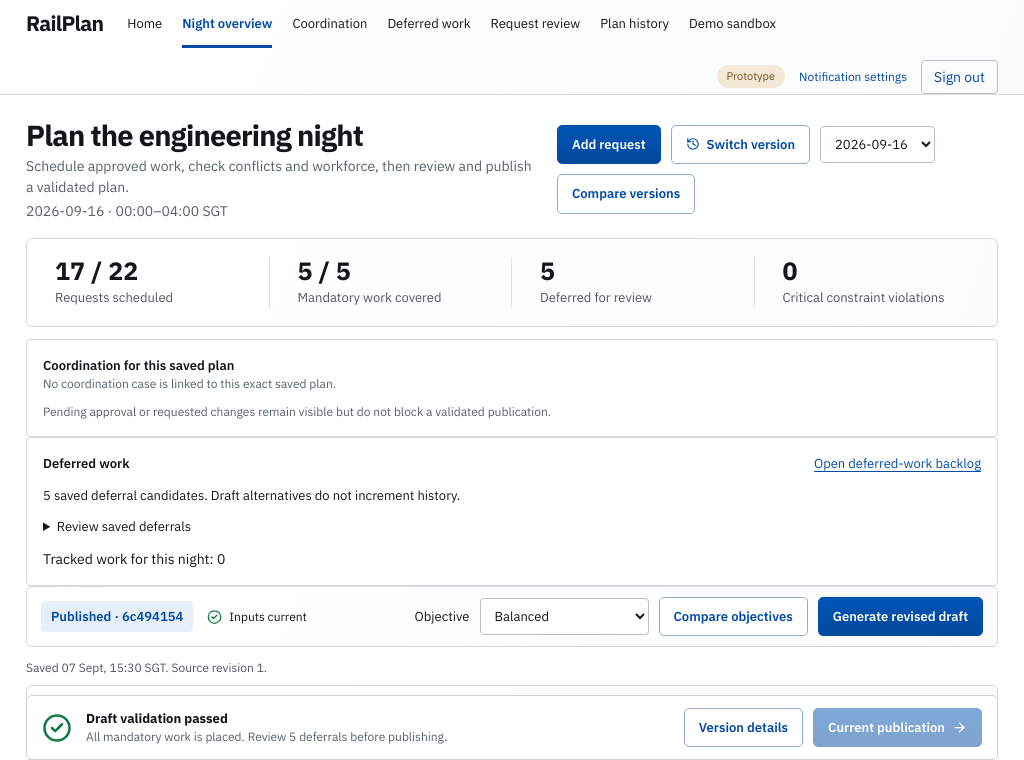
Test: renders published versions read-only and records review notes separately
Expected: the button "Current publication" is disabled, [813, 708, 982, 747]
Step 1. Click the button "Version details" → (743, 727), box [684, 708, 803, 747]
(page scrolled)
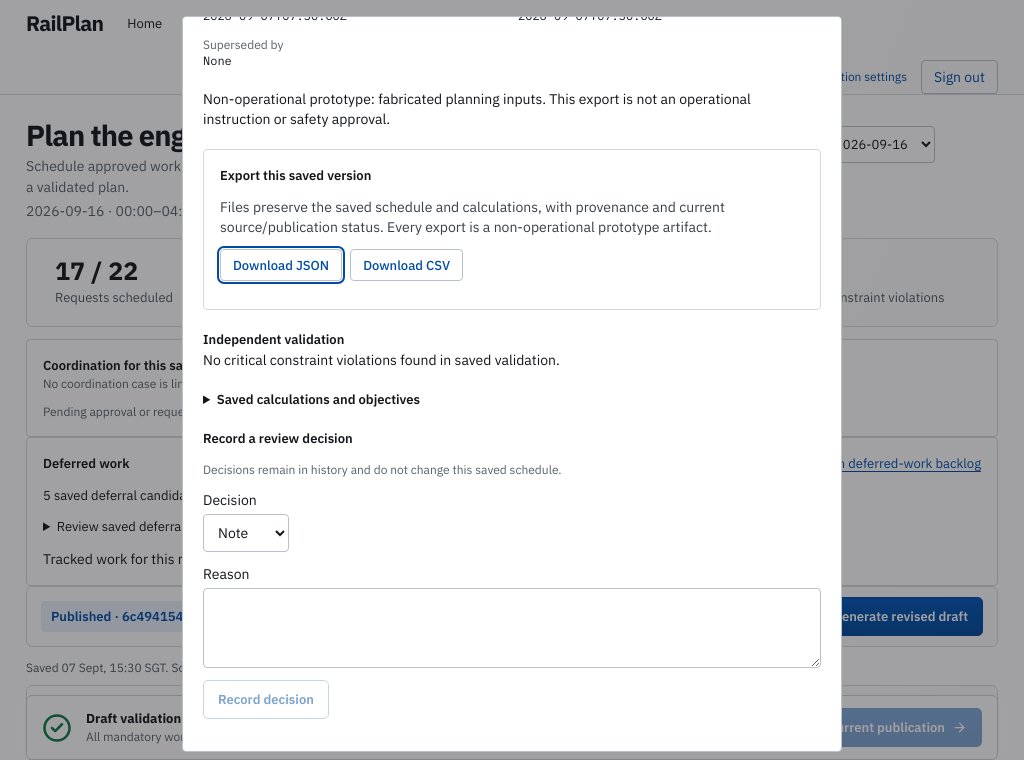
Step 2. Type "Review recorded after publication." into the text box labelled "Reason" → (512, 628), box [203, 588, 821, 668]
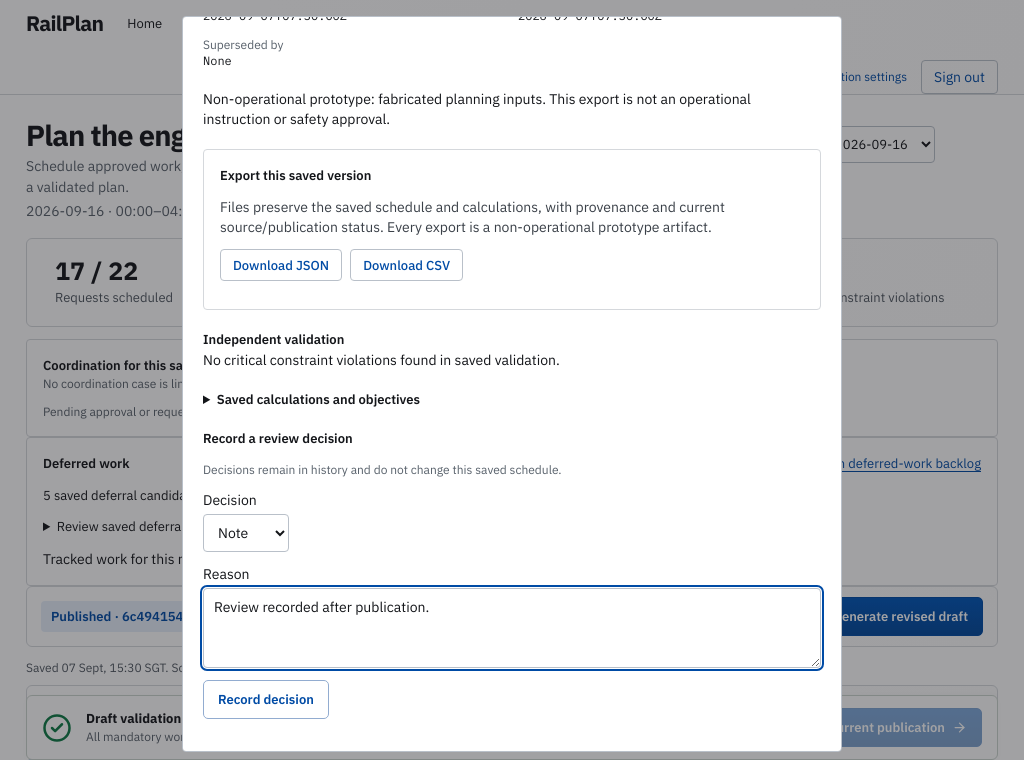
Step 3. Click the button "Record decision" → (266, 700), box [203, 680, 329, 720]
(page scrolled)
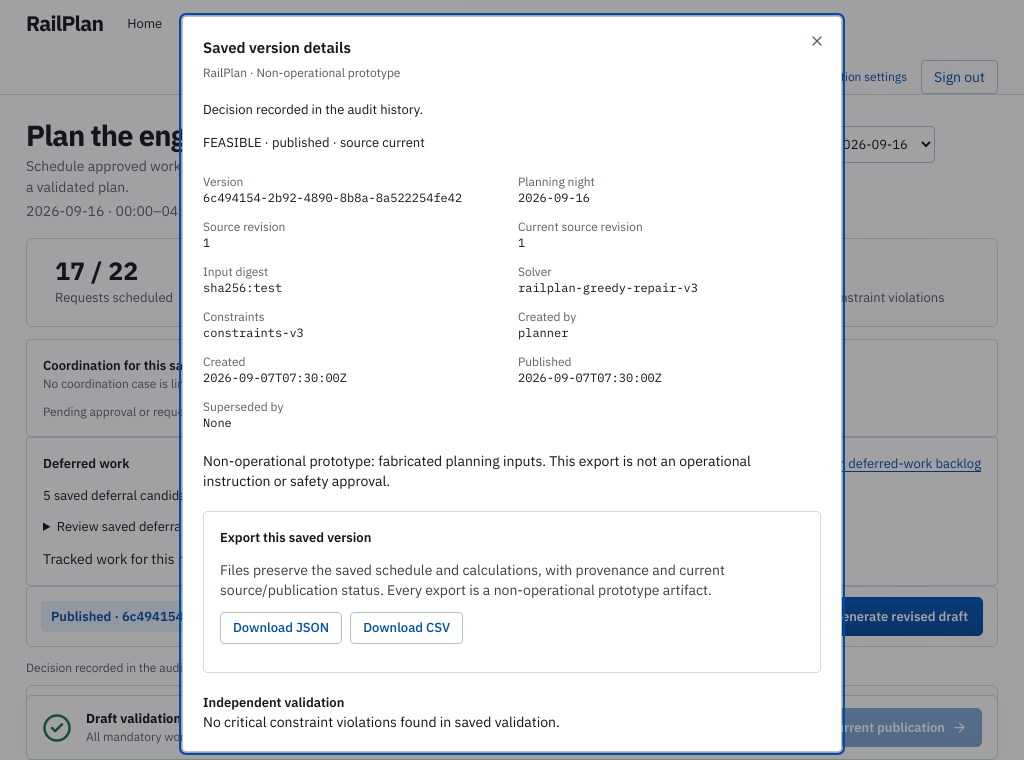
Now the text "6c494154-2b92-4890-8b8a-8a522254fe42" is shown, box [203, 190, 506, 206]
